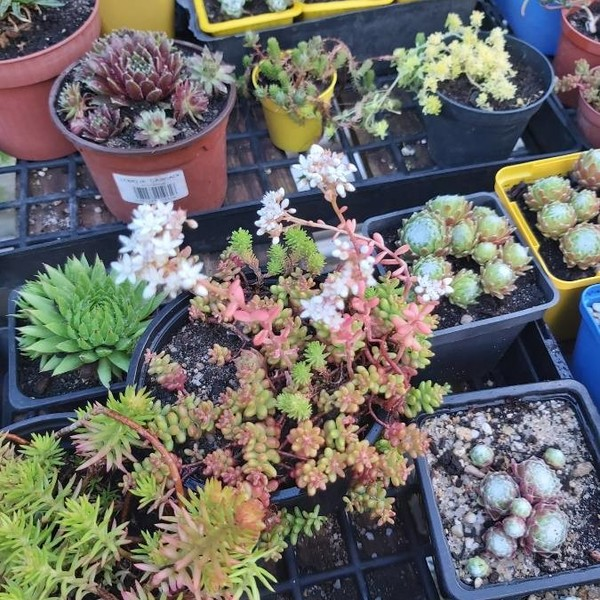obstacle: (200, 257, 405, 484), (27, 399, 251, 574), (29, 16, 234, 198), (339, 190, 550, 333), (432, 399, 578, 580), (404, 3, 559, 143), (14, 240, 136, 365), (251, 29, 352, 135)
